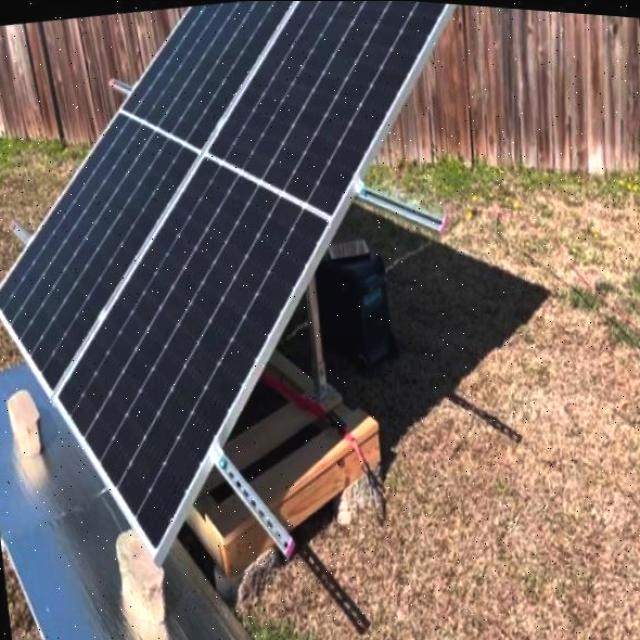Normal Solar Panel: (0, 1, 553, 596)
